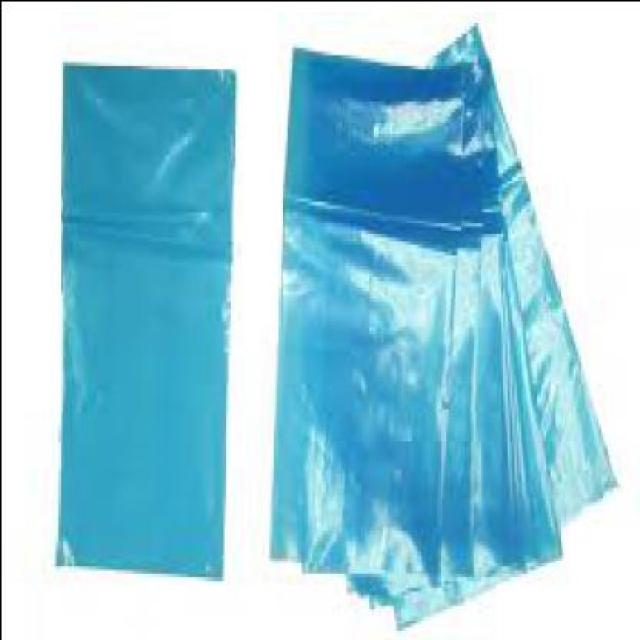PLASTIC: (270, 54, 470, 589), (369, 82, 563, 633), (347, 75, 528, 616), (430, 28, 622, 530), (56, 65, 236, 583)
